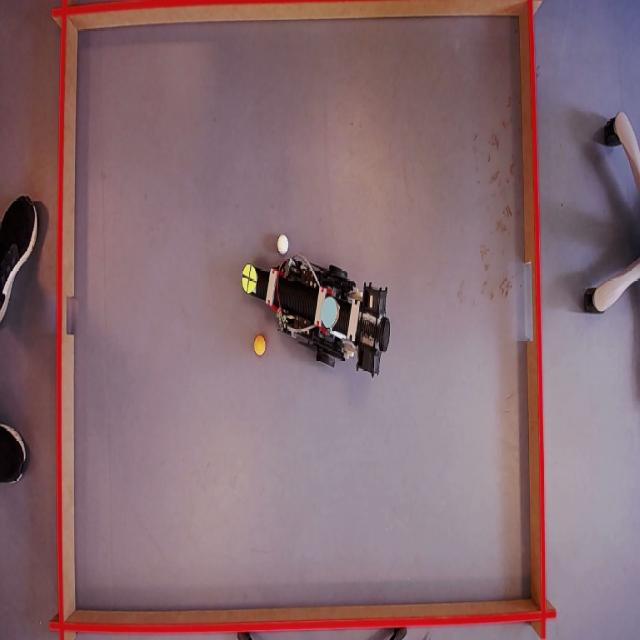orange: (253, 337, 267, 357)
robot: (240, 254, 398, 374)
robot-front: (242, 262, 258, 294)
robot-rear: (321, 292, 342, 331)
white: (275, 234, 289, 254)
